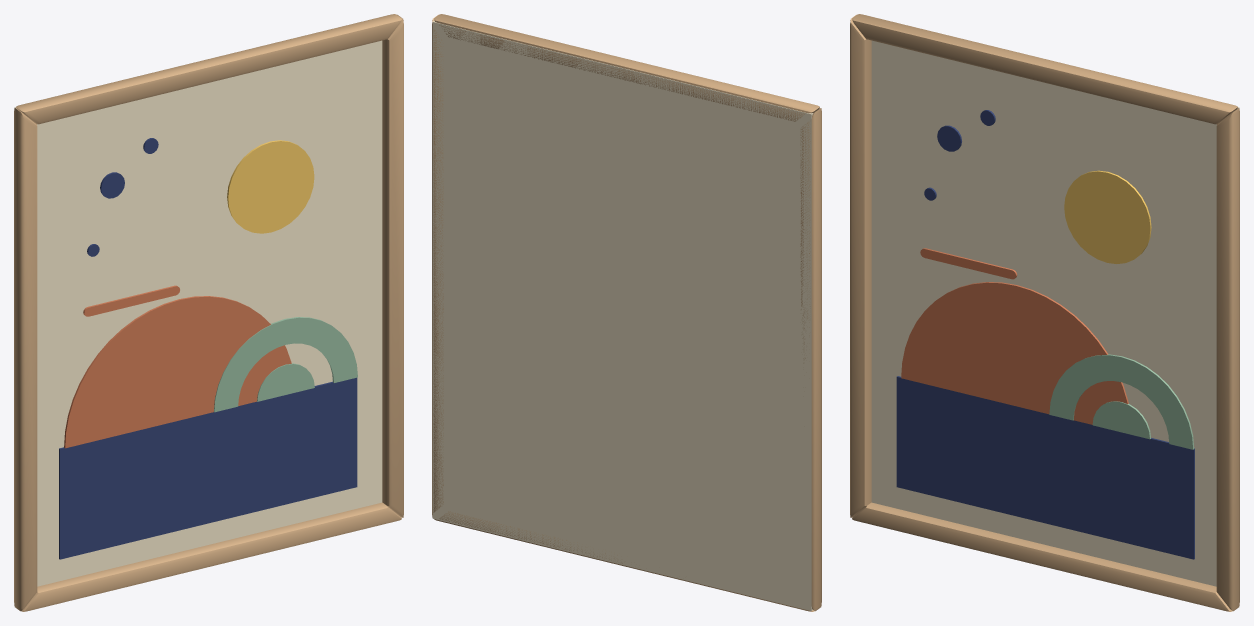
Rendered from wall_art_a.glb.
The picture shows the model from 3 angles, left to right: view 1: azimuth 30°, elevation 25°; view 2: azimuth 150°, elevation 25°; view 3: azimuth 330°, elevation 25°; orthographic projection.
Parts seen in each view (by area): view 1: canvas, frame_oak, art_navy, art_terracotta, art_sage, art_butter; view 2: canvas, frame_oak; view 3: canvas, frame_oak, art_navy, art_terracotta, art_sage, art_butter.
Boxes of the visible parts, <box> form: canvas: <box>14,40,382,586</box>; frame_oak: <box>14,14,403,611</box>; art_navy: <box>59,138,357,559</box>; art_terracotta: <box>64,285,291,448</box>; art_sage: <box>214,317,357,412</box>; art_butter: <box>227,140,314,233</box>; canvas: <box>432,21,813,610</box>; frame_oak: <box>432,14,821,611</box>; canvas: <box>871,40,1239,586</box>; frame_oak: <box>850,14,1239,611</box>; art_navy: <box>896,110,1194,559</box>; art_terracotta: <box>901,248,1128,424</box>; art_sage: <box>1049,354,1194,449</box>; art_butter: <box>1064,170,1151,263</box>.
Size of the model in its own units: 0.8 by 1 by 0.035.
